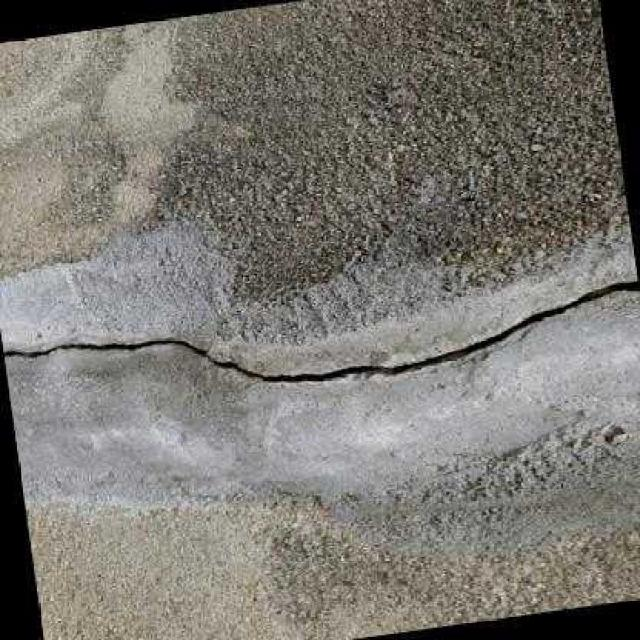D00: (1, 280, 639, 382)
